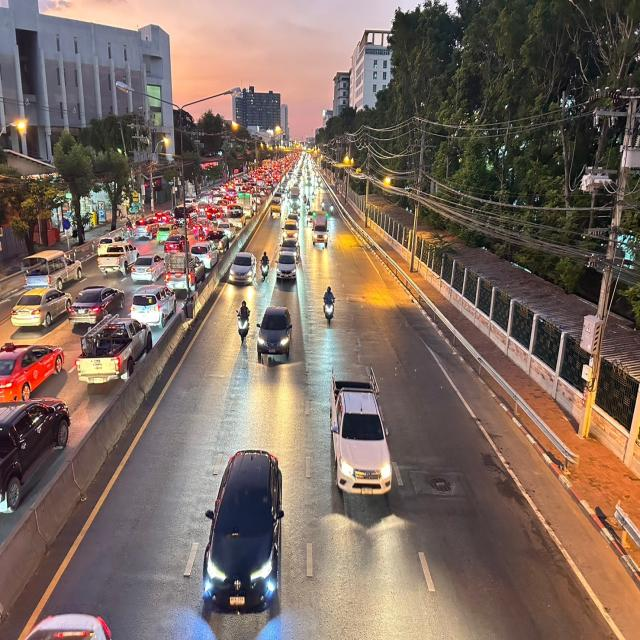bike: (235, 298, 253, 346), (322, 280, 337, 326), (259, 249, 270, 279)
car: (196, 444, 287, 615)
truck: (328, 358, 394, 500), (310, 207, 330, 251)
